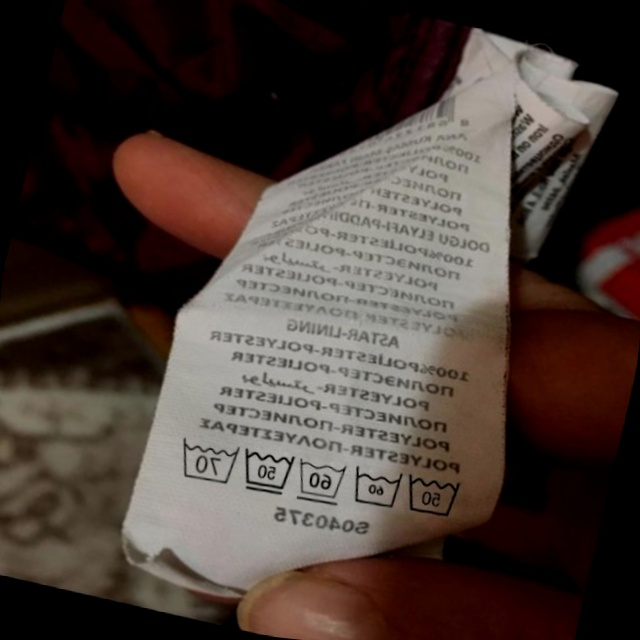50C: (396, 462, 470, 527), (232, 440, 300, 502)
60C: (287, 450, 351, 510), (343, 458, 407, 517)
70C: (168, 431, 242, 490)
